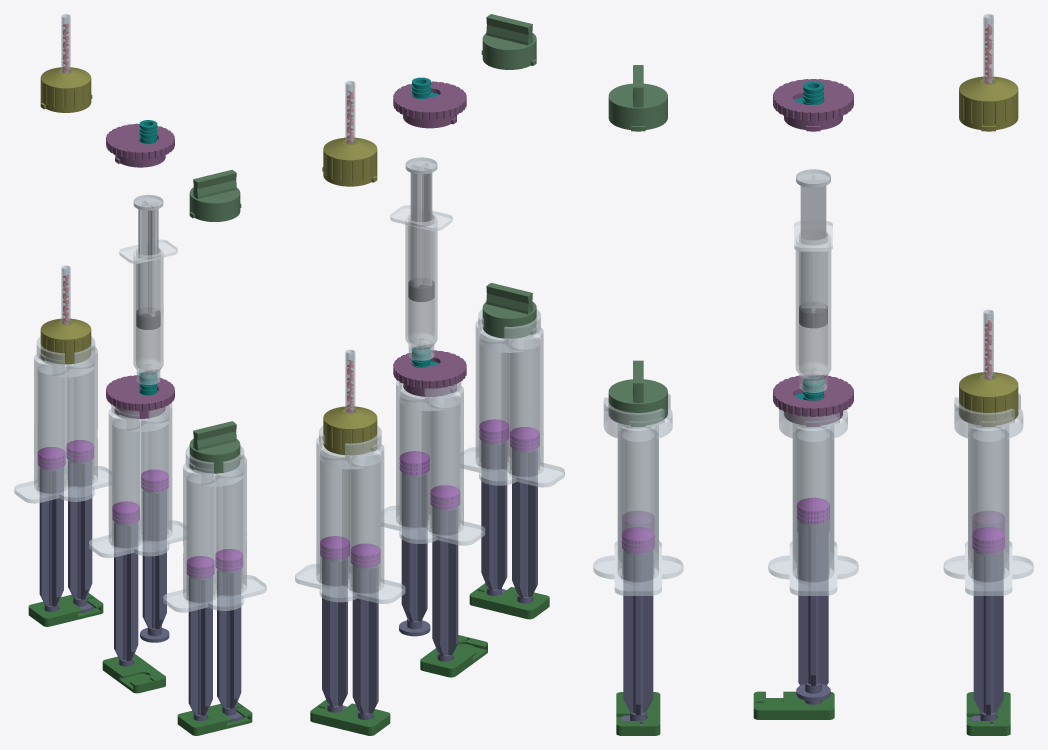
The model's file is coseal_system_overview.glb.
3 views of the same model, side by side, from view 1: azimuth 30°, elevation 25°; view 2: azimuth 150°, elevation 25°; view 3: azimuth 270°, elevation 25° (orthographic). The views are drawn at different scales.
Parts seen in each view (by area): view 1: coseal_system_overview (×12); view 2: coseal_system_overview (×13); view 3: coseal_system_overview (×11).
Boxes of the visible parts, bbox=[...] form: coseal_system_overview (×12): bbox=[14, 14, 266, 735]; coseal_system_overview (×13): bbox=[295, 14, 564, 735]; coseal_system_overview (×11): bbox=[593, 14, 1033, 735].
Size of the model in its own units: 0.0461 by 0.2876 by 0.1634.
